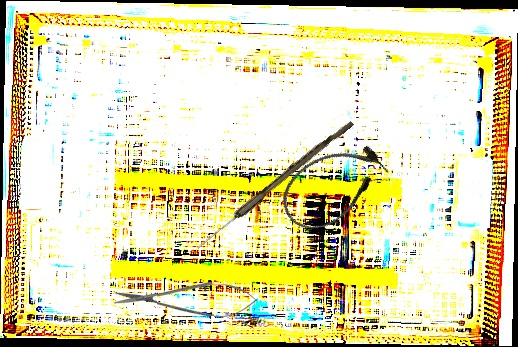Cannula: (269, 129, 397, 243)
Micro Scissor: (113, 279, 258, 319)
Surgical Spoon: (195, 117, 354, 253)
